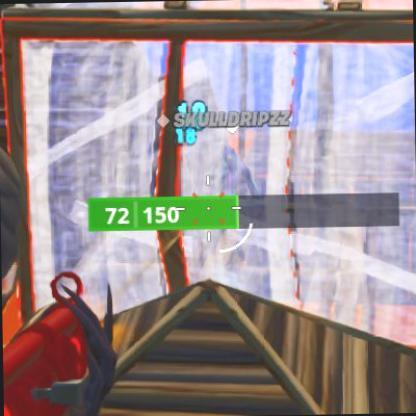person: (196, 144, 275, 285)
